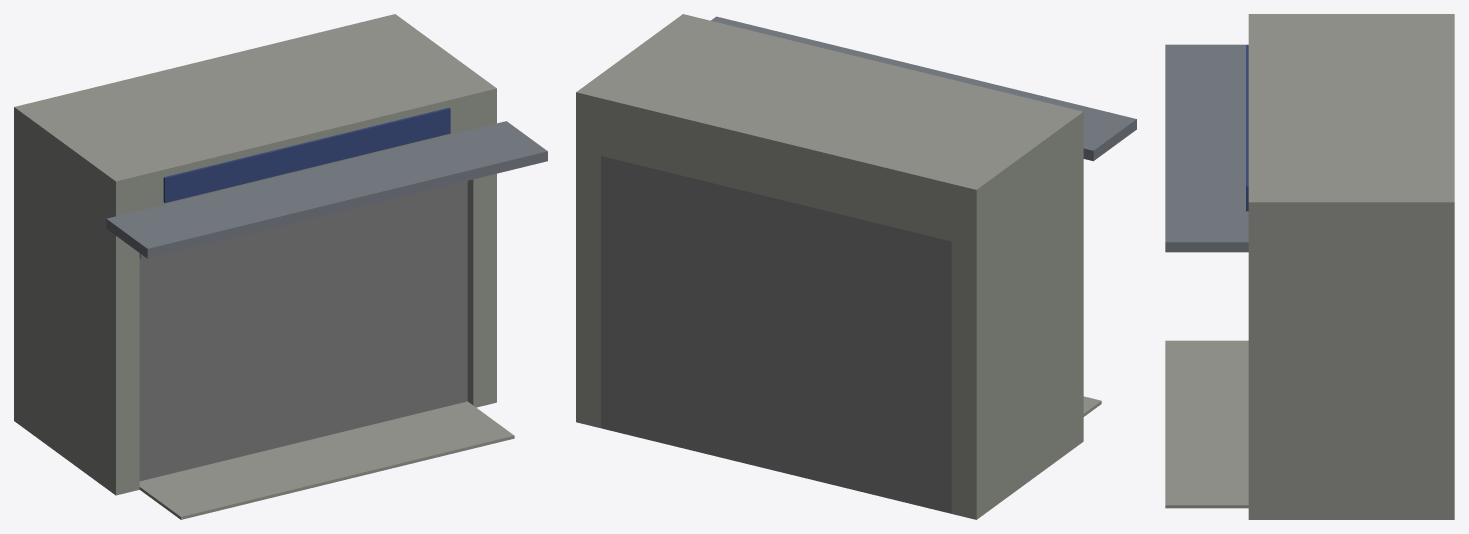
Rendered from entrance.fbx.
3 views of the same model, side by side, from view 1: azimuth 30°, elevation 25°; view 2: azimuth 150°, elevation 25°; view 3: azimuth 270°, elevation 25° (orthographic). The views are drawn at different scales.
Parts seen in each view (by area): view 1: a1041/0/entrance; view 2: a1041/0/entrance; view 3: a1041/0/entrance.
Boxes of the visible parts, bbox=[...] form: a1041/0/entrance: bbox=[14, 14, 547, 519]; a1041/0/entrance: bbox=[576, 14, 1136, 519]; a1041/0/entrance: bbox=[1165, 14, 1454, 519].
Size of the model in its own units: 8.4 by 6.3 by 5.2.
